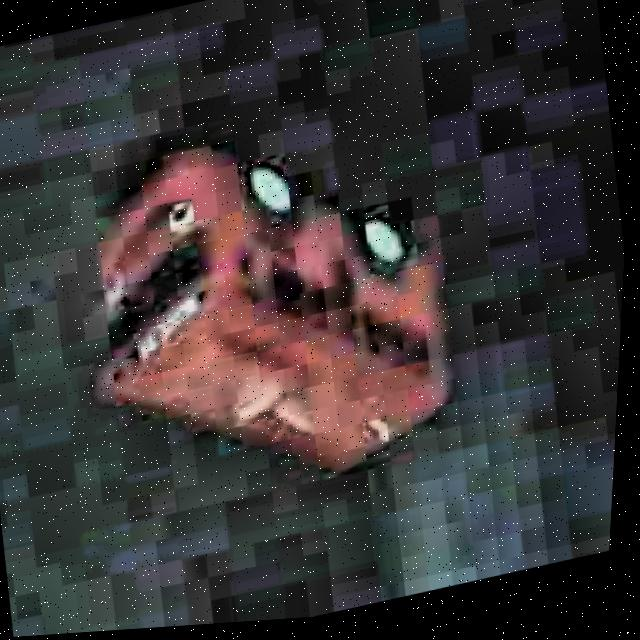bus: (46, 58, 501, 539)
